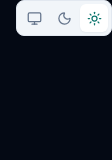
Test case: ThemeToggle › choosing dark applies it to <html> and remembers it
The width and height of the screenshot is (112, 160).
Click the button named "المظهر الداكن" at (64, 18), box [50,4,78,32]
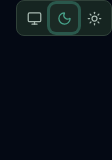
expect the button named "المظهر الداكن" is pressed: met, box [50,4,78,32]
